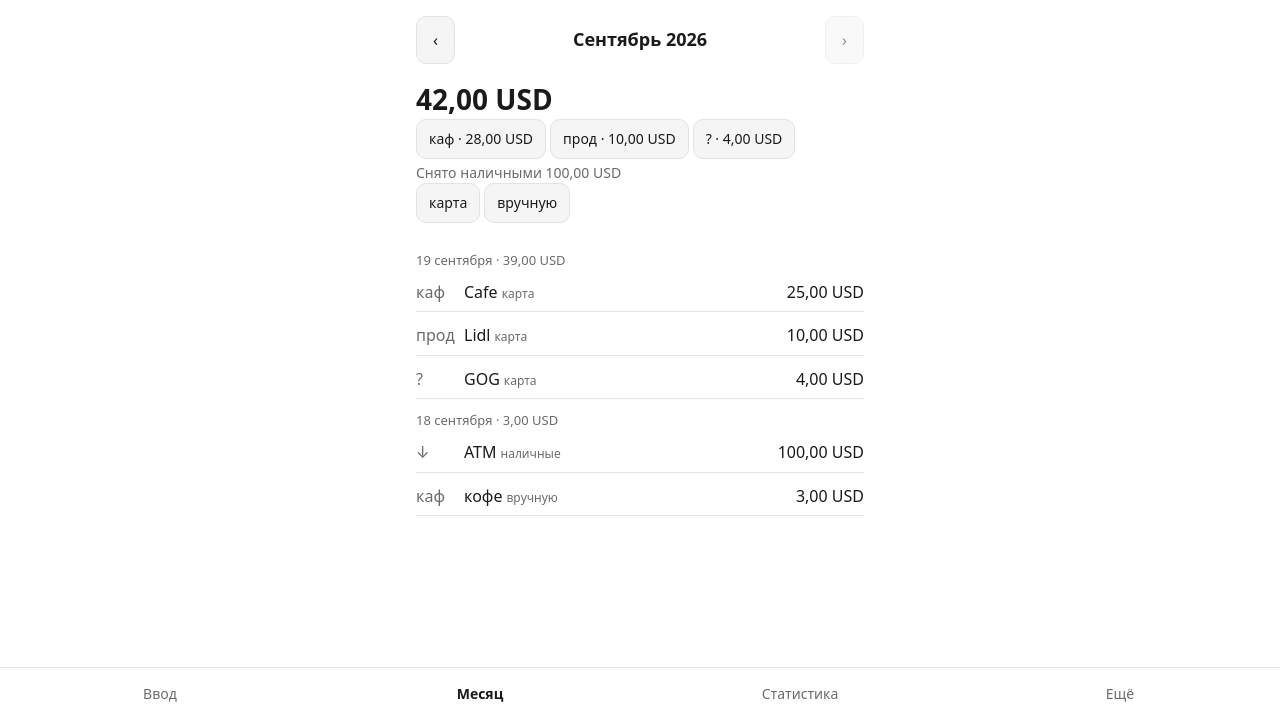
Scenario: MonthScreen › чип «?» фильтрует список записями без кода
Click the button "? · 4,00 USD": click(744, 139) [693,119,795,159]
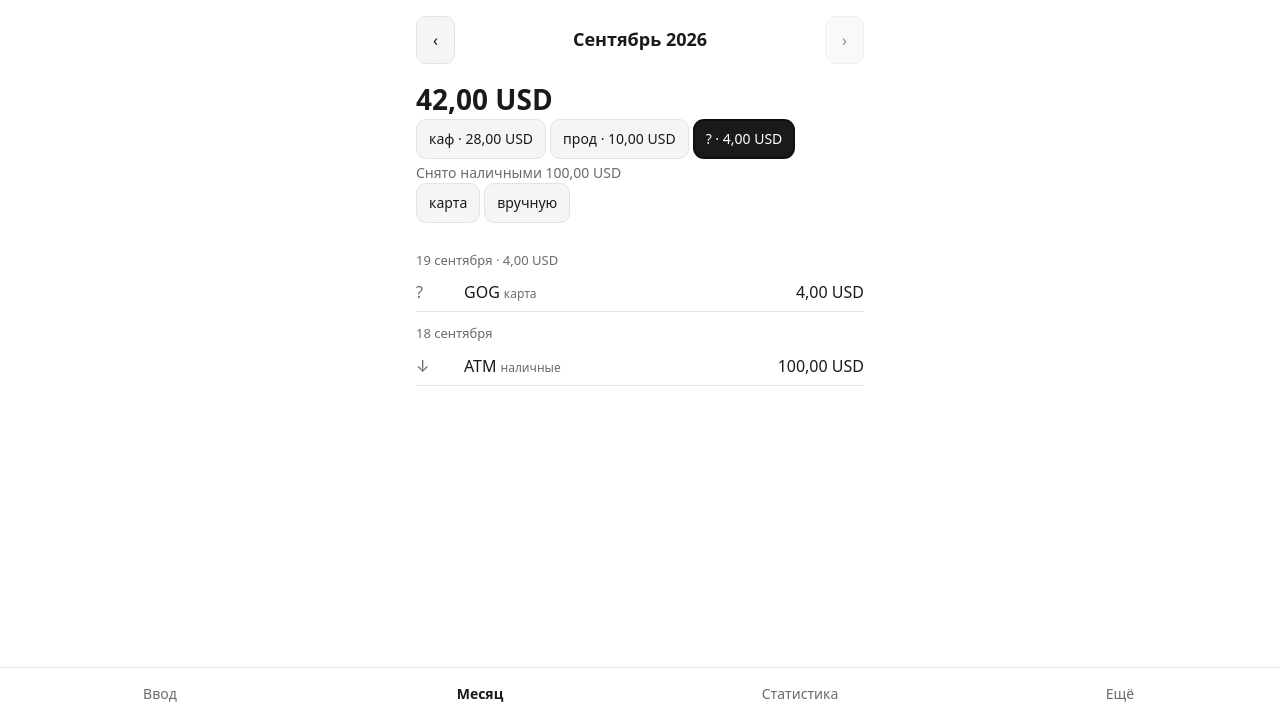
expect the text "GOG" is shown: met, box [464,281,500,303]
expect the button "Lidl" is gone: met
expect the button "Cafe" is gone: met
